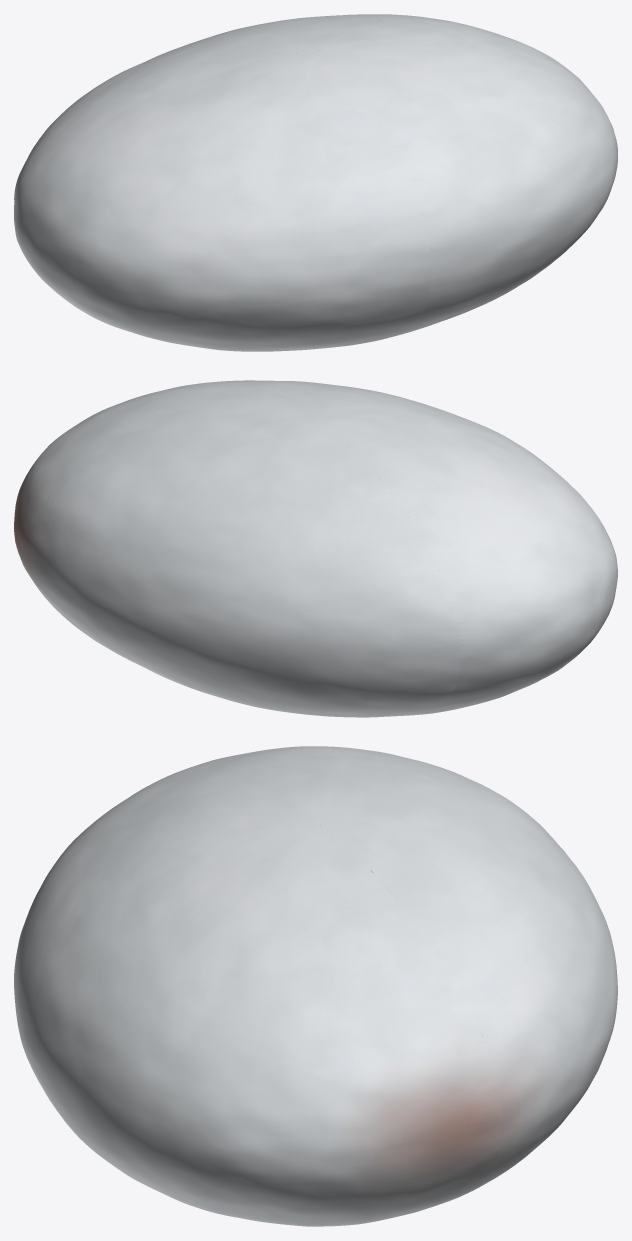
File: haumea.glb
3 renders of one model, top to bottom at view 1: azimuth 30°, elevation 25°; view 2: azimuth 150°, elevation 25°; view 3: azimuth 270°, elevation 25°, orthographic. The views are drawn at different scales.
Parts seen in each view (by area): view 1: wedge1, wedge2, wedge0; view 2: wedge0, wedge1, wedge2; view 3: wedge2, wedge0, wedge1.
Part boxes in pixels (<box>): wedge1: <box>14,53,431,351</box>; wedge2: <box>315,15,617,335</box>; wedge0: <box>38,14,411,140</box>; wedge0: <box>23,419,460,717</box>; wedge1: <box>316,393,617,714</box>; wedge2: <box>14,380,385,572</box>; wedge2: <box>14,820,501,1226</box>; wedge0: <box>314,771,617,1193</box>; wedge1: <box>14,746,459,977</box>.
Bounding box in the file's own units: 2 × 0.8928 × 1.47.
3 materials, 2 textured.
